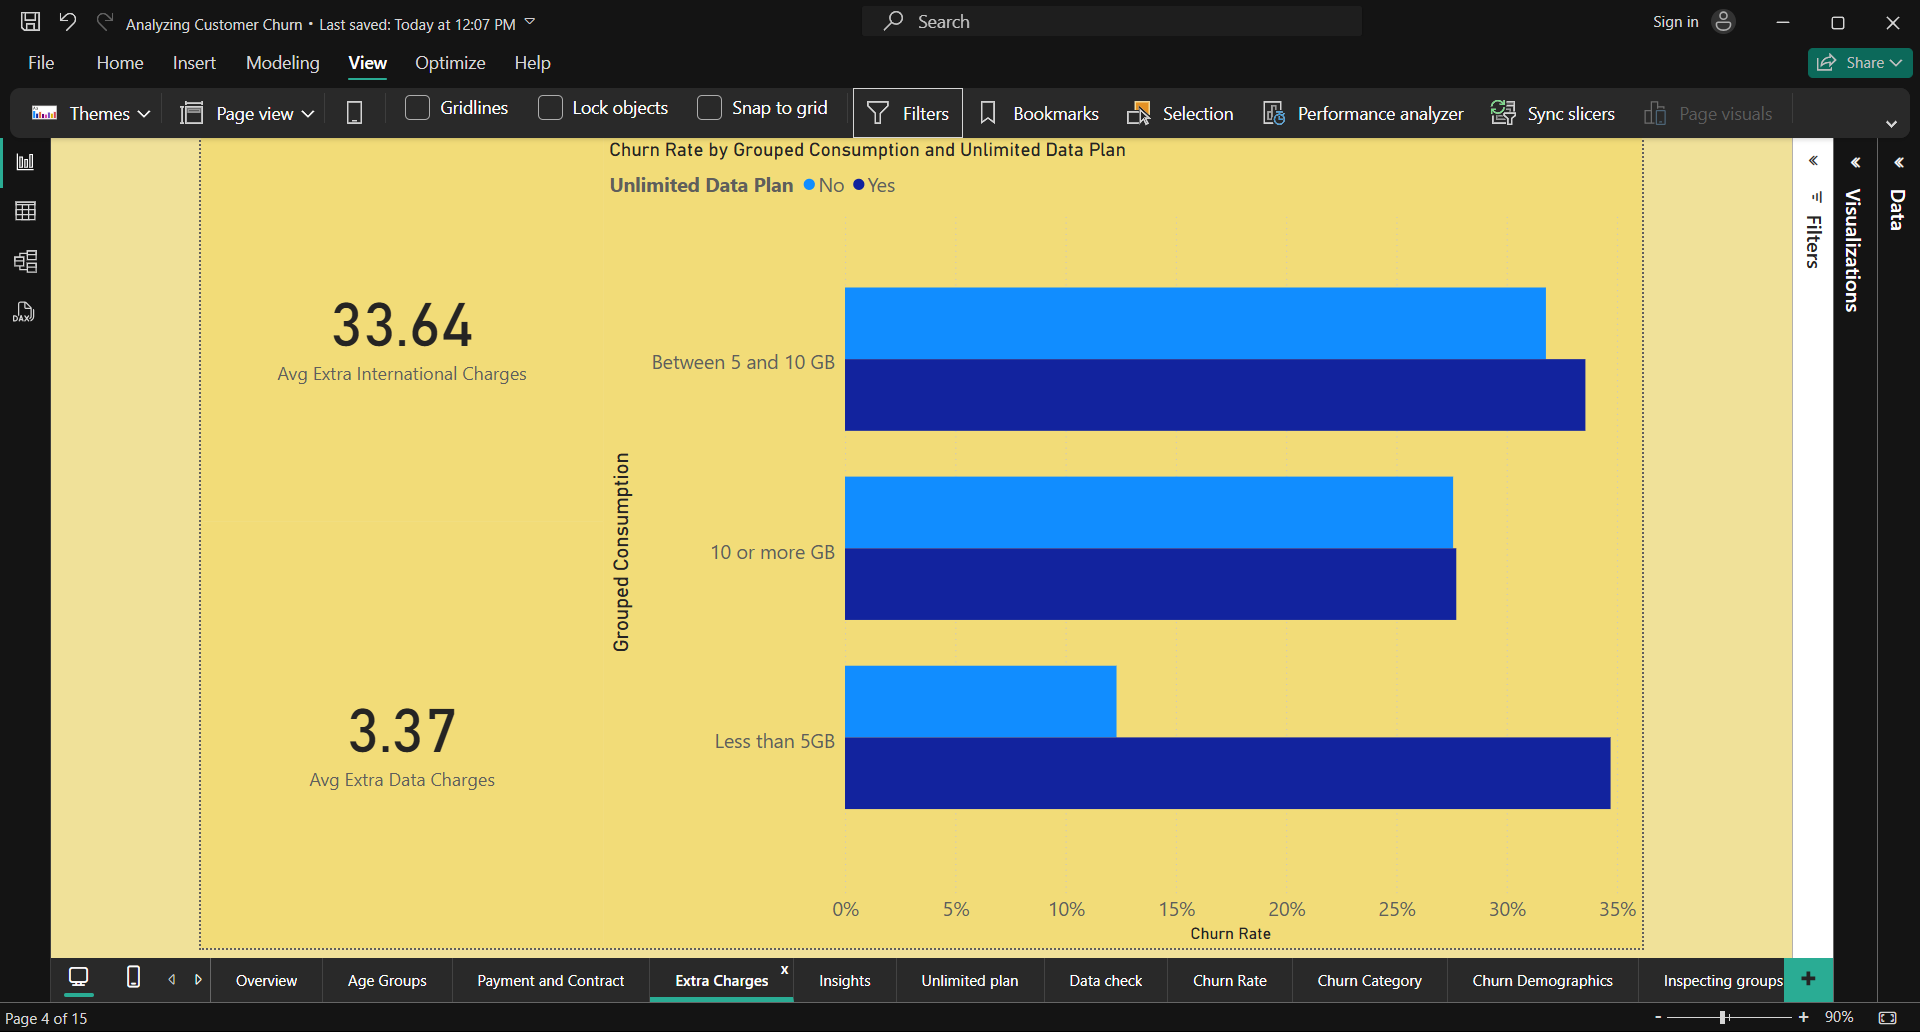

The dashboard page shown, as its layout file describes it:
{"tool":"powerbi","page":{"name":"Extra Charges","canvas":[1280,720],"ordinal":3},"visuals":[{"type":"clusteredBarChart","fields":{"Category":["Databel - Data.Grouped Consumption"],"Y":["Databel - Data.Churn Rate"],"Series":["Databel - Data.Unlimited Data Plan"]},"box":[357.5,0,922.7,720.3],"z":0},{"type":"card","fields":{"Values":["Databel - Data.Avg Extra International Charges"]},"box":[0,0,357.5,340.4],"z":1000},{"type":"card","fields":{"Values":["Databel - Data.Avg Extra Data Charges"]},"box":[0,340.4,357.5,379.9],"z":2000}]}

Visuals, with their boxes on the page's 1280x720 design canvas (x1, y1, x2, y2). These are canvas units, not pixel positions in the 1920x1032 screenshot, which may show the page scaled, cropped or inside an application window:
clusteredBarChart - Databel - Data.Grouped Consumption x Databel - Data.Churn Rate: <bbox>358, 0, 1280, 720</bbox>
card - Databel - Data.Avg Extra International Charges: <bbox>0, 0, 358, 340</bbox>
card - Databel - Data.Avg Extra Data Charges: <bbox>0, 340, 358, 720</bbox>
